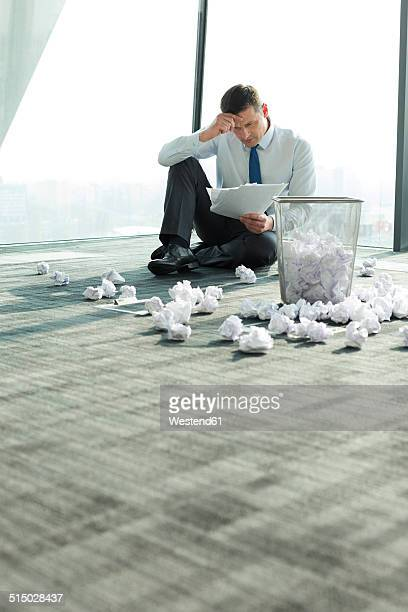paper: (294, 282, 381, 385), (339, 272, 408, 347), (162, 244, 223, 326), (256, 276, 308, 358), (313, 235, 395, 283), (222, 314, 277, 382), (139, 298, 201, 349), (7, 237, 51, 282), (224, 246, 266, 292), (99, 231, 133, 287), (62, 265, 103, 308), (35, 258, 78, 298), (88, 278, 122, 328), (110, 281, 136, 327), (136, 283, 168, 320)
